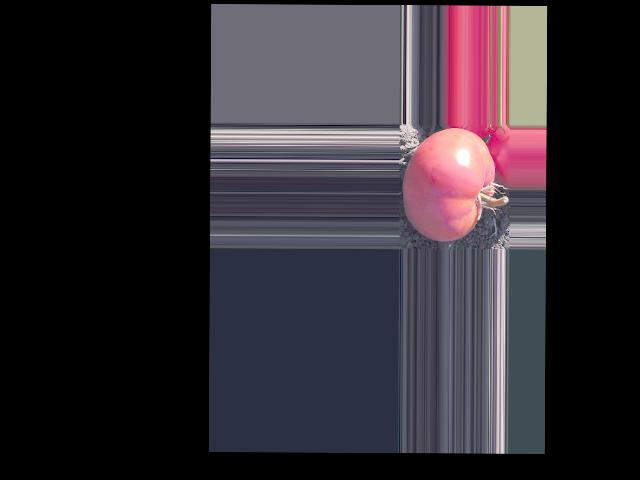tomato: (402, 127, 494, 242)
